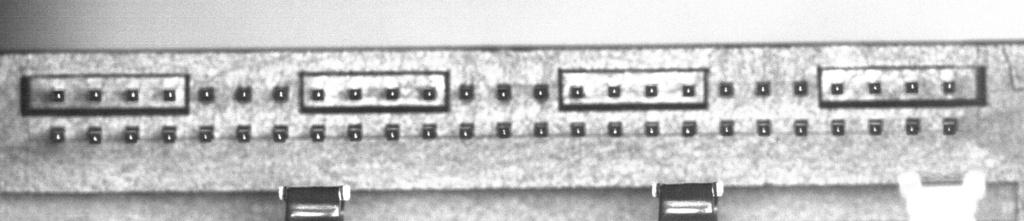pin_ok: (458, 83, 475, 100), (235, 85, 252, 102), (161, 125, 177, 143), (236, 124, 252, 142), (942, 117, 958, 135), (49, 125, 65, 143), (197, 86, 215, 102), (719, 119, 735, 136), (868, 118, 884, 135), (272, 125, 288, 142), (905, 117, 921, 134), (198, 125, 214, 142), (123, 126, 139, 143), (310, 125, 326, 142), (272, 85, 289, 101), (347, 123, 362, 141), (87, 126, 102, 144), (496, 121, 512, 137), (644, 120, 660, 136), (459, 122, 475, 138), (384, 124, 400, 140), (831, 119, 847, 135), (496, 84, 512, 100), (533, 84, 549, 100), (682, 120, 697, 136), (570, 121, 586, 136), (607, 121, 623, 136), (422, 123, 437, 139), (718, 82, 734, 97), (794, 119, 808, 136), (757, 119, 771, 136), (793, 81, 808, 96), (755, 81, 770, 96), (534, 121, 549, 136), (421, 86, 437, 100), (162, 88, 177, 102), (87, 88, 102, 102), (569, 85, 584, 99), (904, 80, 919, 94), (942, 80, 956, 94), (644, 84, 659, 97), (385, 87, 400, 100), (310, 88, 325, 101), (681, 84, 696, 97), (867, 81, 882, 94), (348, 87, 362, 100), (607, 84, 621, 97), (125, 88, 139, 101), (830, 82, 844, 95), (52, 88, 65, 101)
